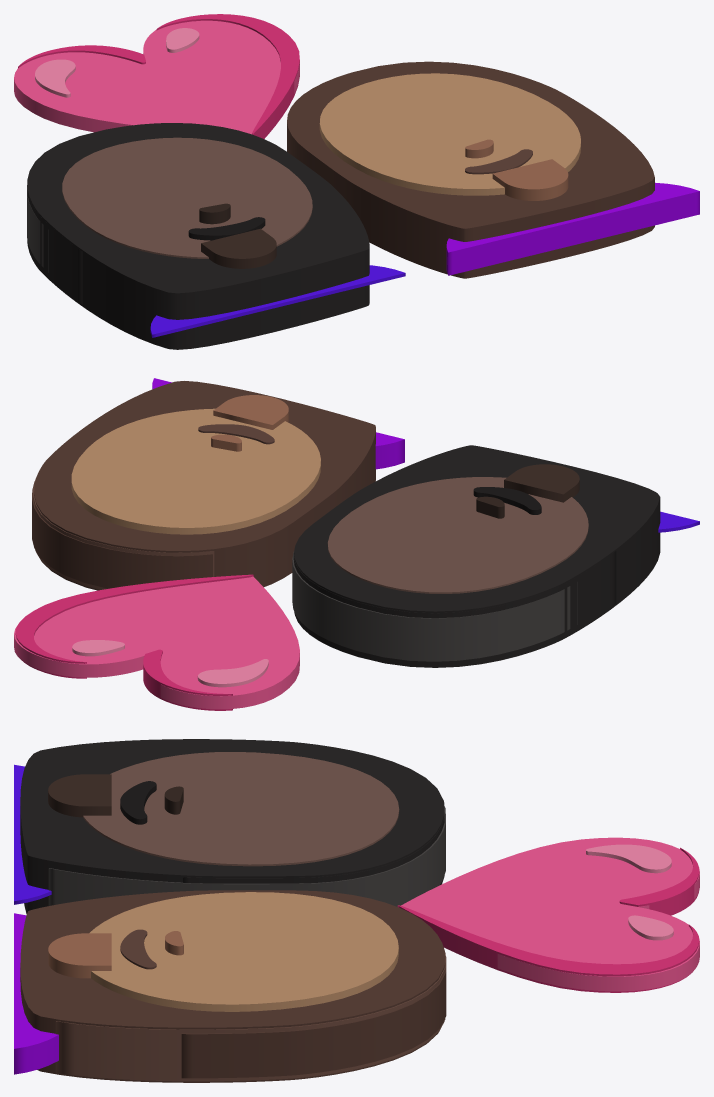
The model's file is emoji_u1f469_1f3ff_200d_2764_200d_1f469_1f3fd.glb.
3 views of the same model, one above another, from view 1: azimuth 30°, elevation 25°; view 2: azimuth 150°, elevation 25°; view 3: azimuth 270°, elevation 25° (orthographic). The views are drawn at different scales.
Parts seen in each view (by area): view 1: emoji_u1f469_1f3ff_200d_2764_200d_1f469_1f3fd; view 2: emoji_u1f469_1f3ff_200d_2764_200d_1f469_1f3fd; view 3: emoji_u1f469_1f3ff_200d_2764_200d_1f469_1f3fd.
Part boxes in pixels (x1=…): emoji_u1f469_1f3ff_200d_2764_200d_1f469_1f3fd: x1=14, y1=14, x2=699, y2=349; emoji_u1f469_1f3ff_200d_2764_200d_1f469_1f3fd: x1=14, y1=378, x2=699, y2=710; emoji_u1f469_1f3ff_200d_2764_200d_1f469_1f3fd: x1=14, y1=739, x2=699, y2=1082.
Bounding box in the file's own units: 0.0345 × 0.005 × 0.0338.
